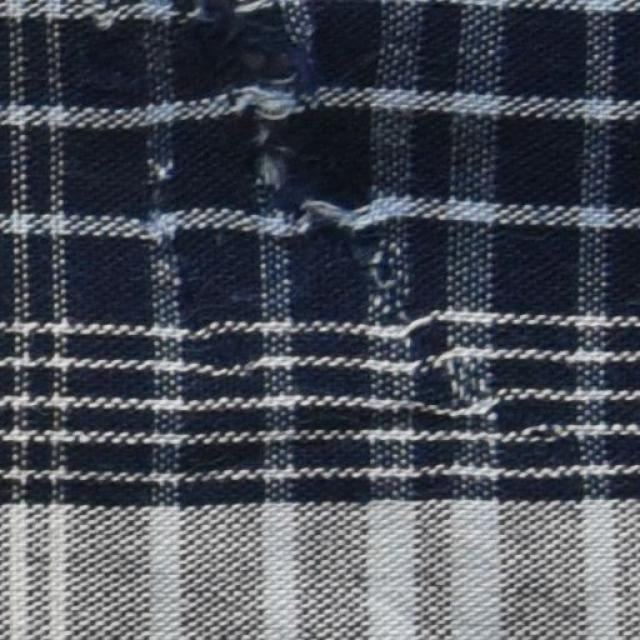Snag: (180, 0, 331, 199), (303, 186, 399, 299)
